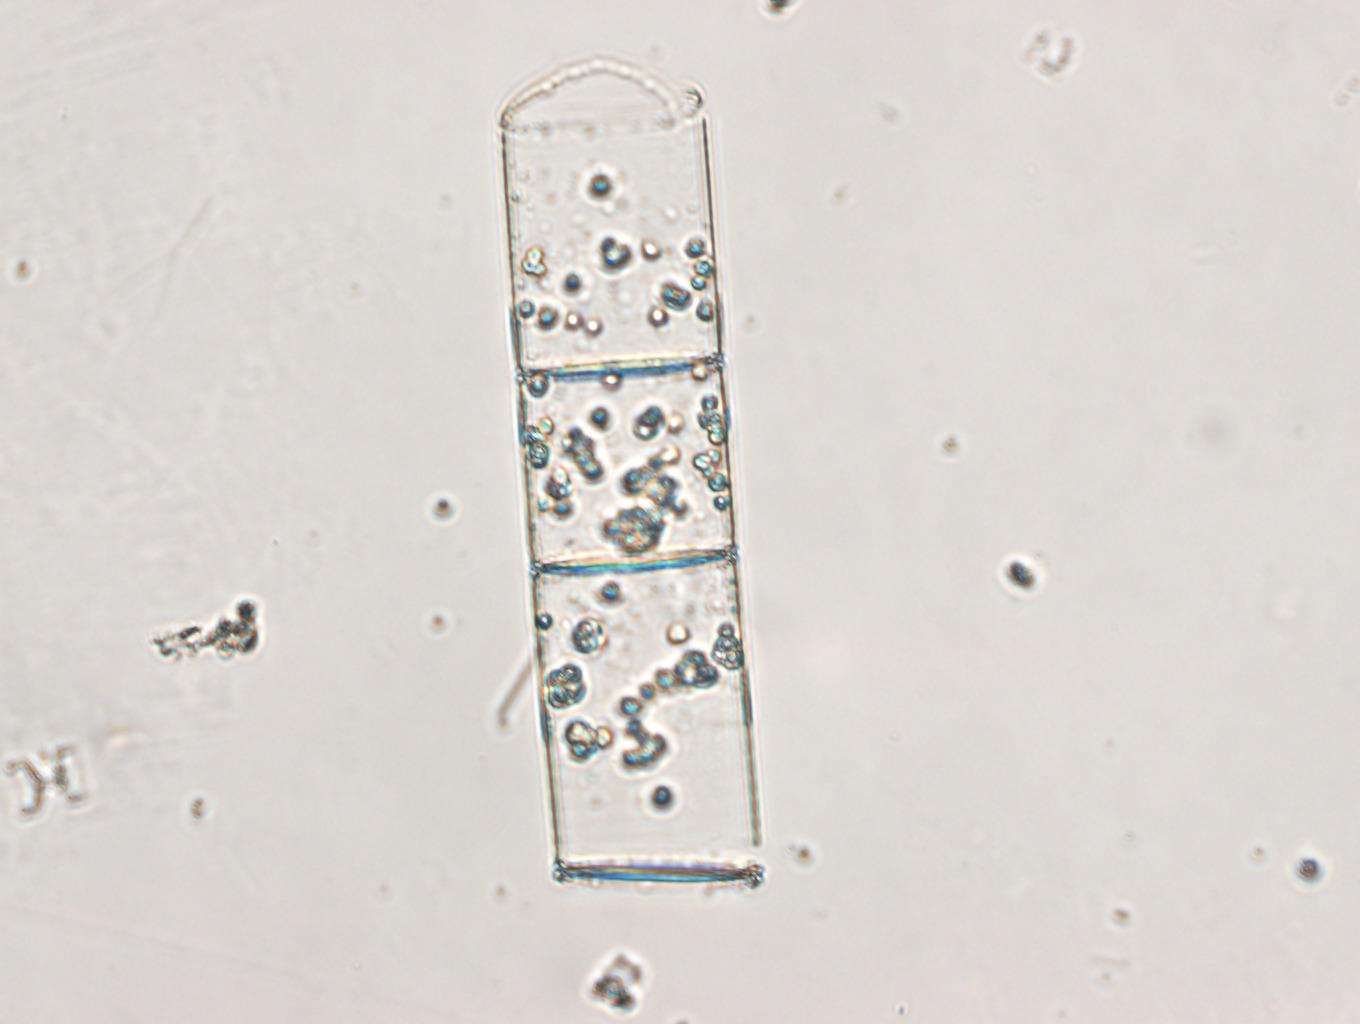guinardia flaccida: (492, 55, 770, 899)
